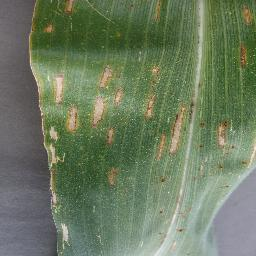Gray_Leaf_Spot: (42, 144, 71, 254), (169, 101, 191, 153), (34, 81, 52, 144), (143, 62, 160, 120), (27, 0, 38, 81), (90, 92, 110, 127), (96, 61, 118, 92), (151, 128, 169, 163), (215, 118, 233, 152), (63, 104, 81, 136), (54, 69, 68, 104), (239, 0, 256, 28), (105, 165, 123, 190), (238, 43, 250, 70), (176, 194, 192, 214), (104, 126, 119, 147), (63, 0, 77, 19), (194, 160, 206, 181), (155, 0, 165, 25), (156, 230, 171, 244), (50, 125, 59, 145), (155, 205, 167, 218), (156, 173, 167, 187), (116, 89, 124, 108), (45, 21, 55, 36), (196, 120, 209, 130), (237, 159, 254, 166), (174, 224, 187, 232), (223, 181, 233, 190), (216, 163, 225, 172), (198, 142, 204, 150)
